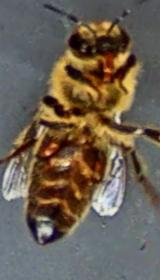varroa_mite: (84, 149, 108, 184), (38, 136, 68, 158)
